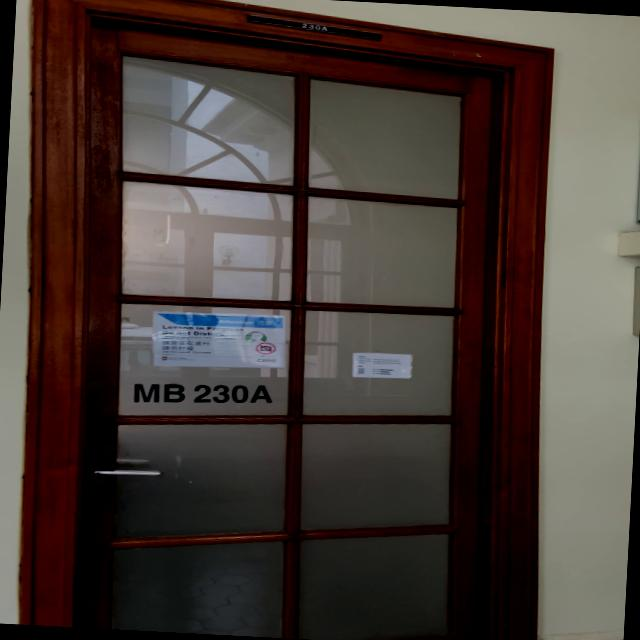room230A: (246, 14, 383, 42)
room230AWindow: (127, 375, 280, 413)
